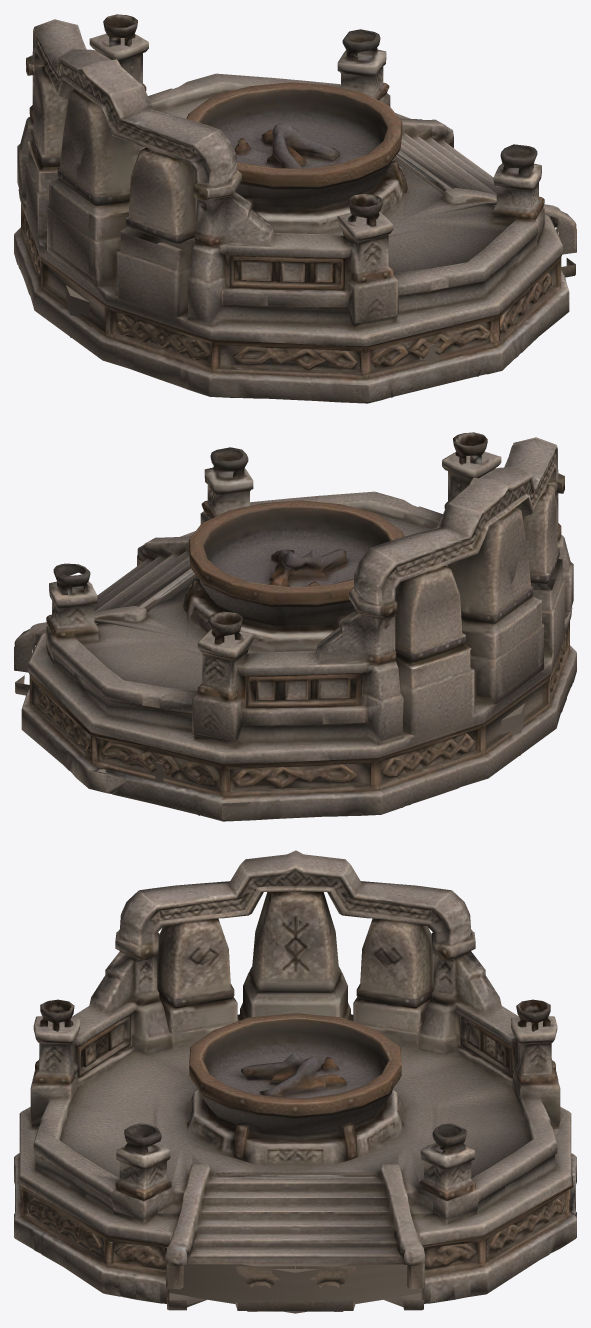
The model's file is ocak-sv20.glb.
3 renders of one model, top to bottom at view 1: azimuth 30°, elevation 25°; view 2: azimuth 150°, elevation 25°; view 3: azimuth 270°, elevation 25°, orthographic. The views are drawn at different scales.
Visible parts, largest first — view 1: tripo_node_20881f53-b037-4fab-93e5-3f52d6fcb596; view 2: tripo_node_20881f53-b037-4fab-93e5-3f52d6fcb596; view 3: tripo_node_20881f53-b037-4fab-93e5-3f52d6fcb596.
Part boxes in pixels (box(x1,y1,x2,y2)): tripo_node_20881f53-b037-4fab-93e5-3f52d6fcb596: box(14, 14, 576, 403); tripo_node_20881f53-b037-4fab-93e5-3f52d6fcb596: box(14, 432, 576, 821); tripo_node_20881f53-b037-4fab-93e5-3f52d6fcb596: box(14, 850, 576, 1313).
Bounding box in the file's own units: 0.8885 × 0.5147 × 1.
Materials: 2 (2 with a texture image).
